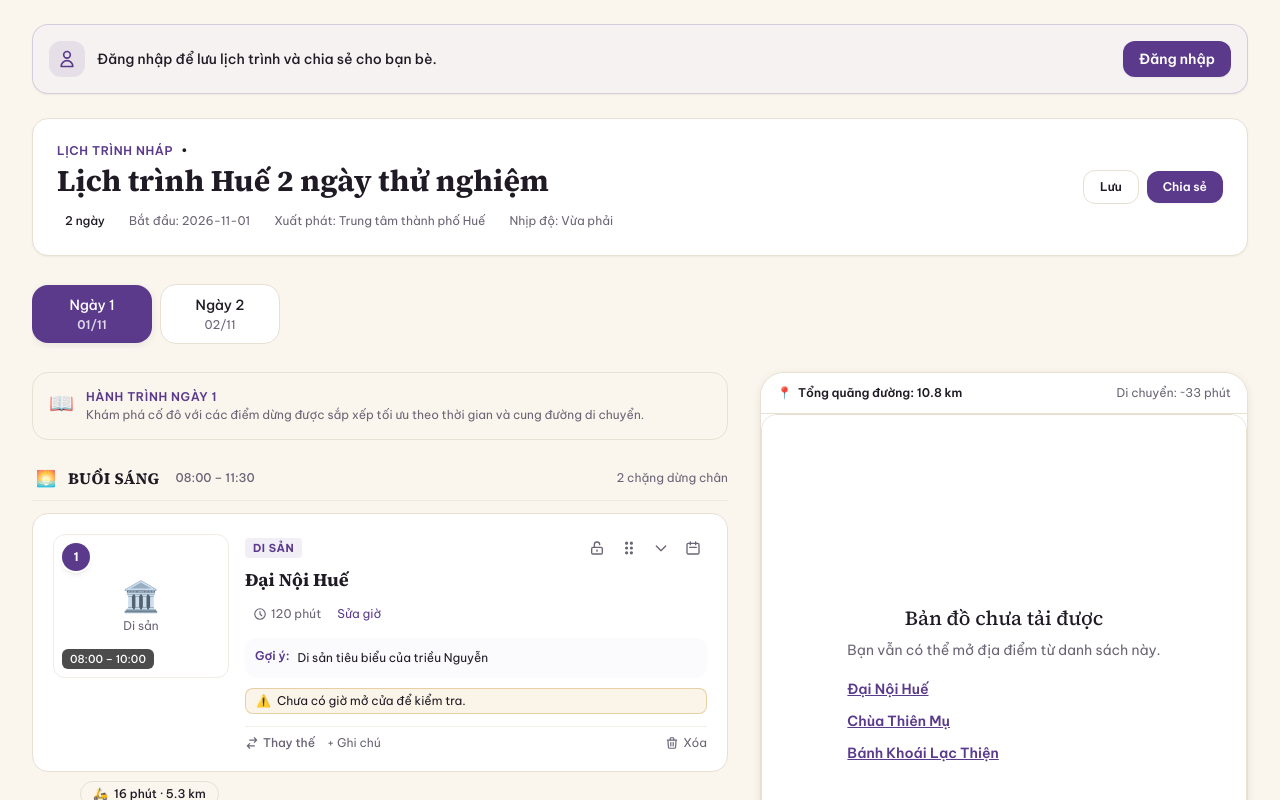
TripEditorPage › switches days when clicking day tabs
The width and height of the screenshot is (1280, 800).
Click the tab "Ngày 2 02/11": coordinates (220, 314) [160, 284, 280, 344]
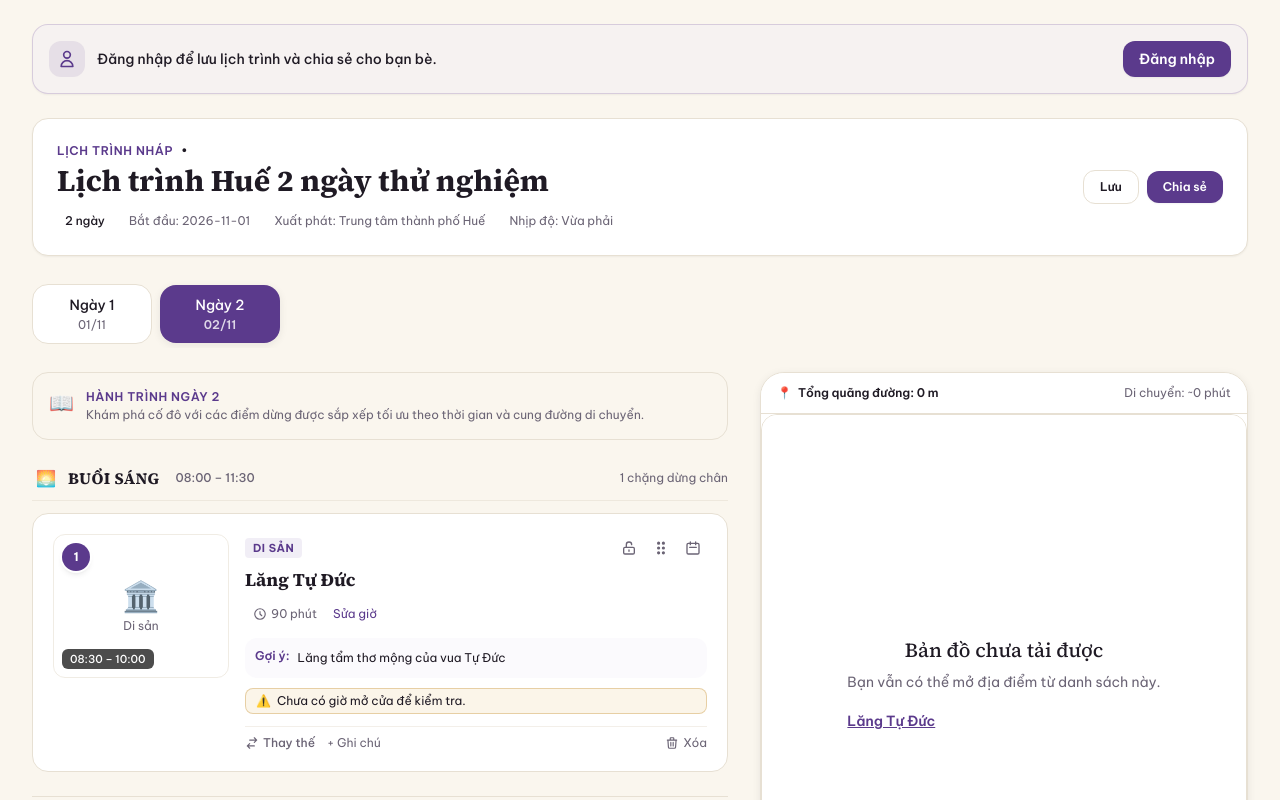
Result: the text "Lăng Tự Đức" is shown at [245, 567, 356, 592]
